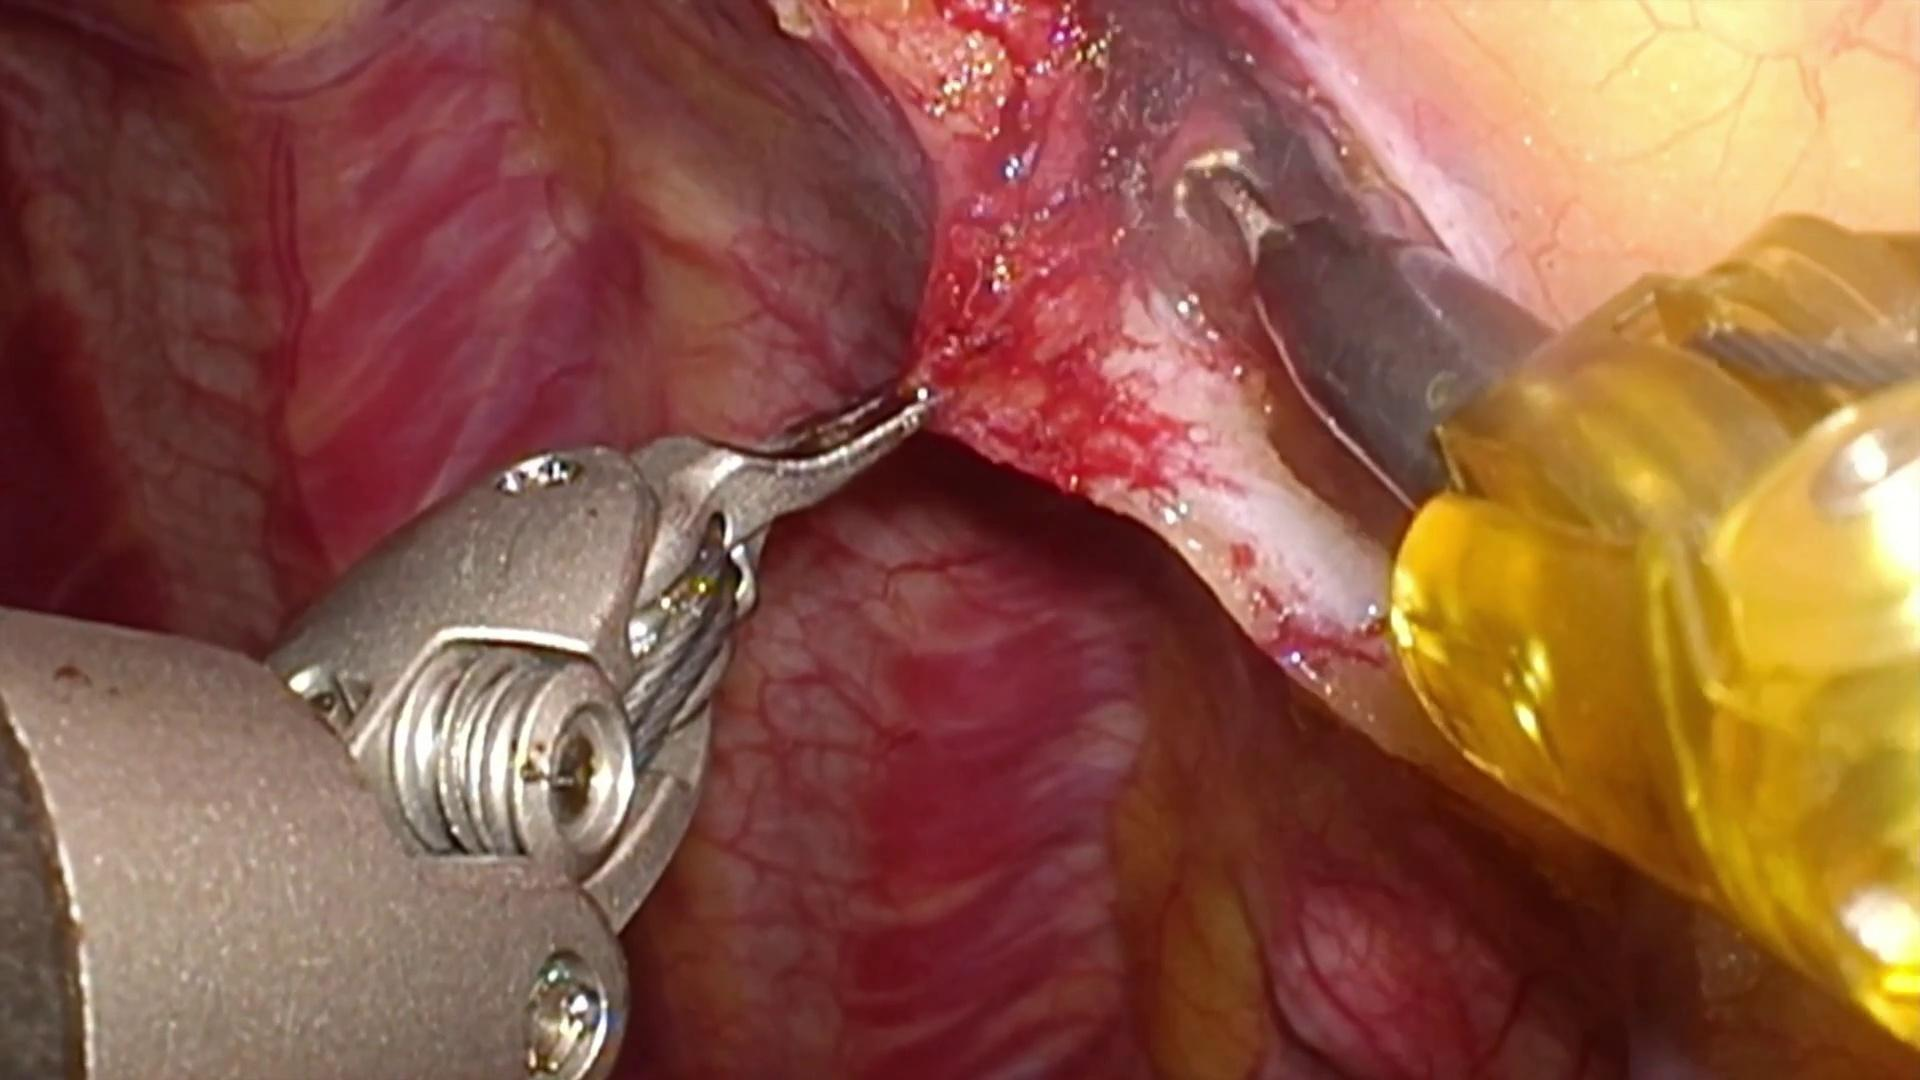Cautery_Spatula: (1203, 170, 1563, 531)
Debakey: (638, 380, 938, 620)
